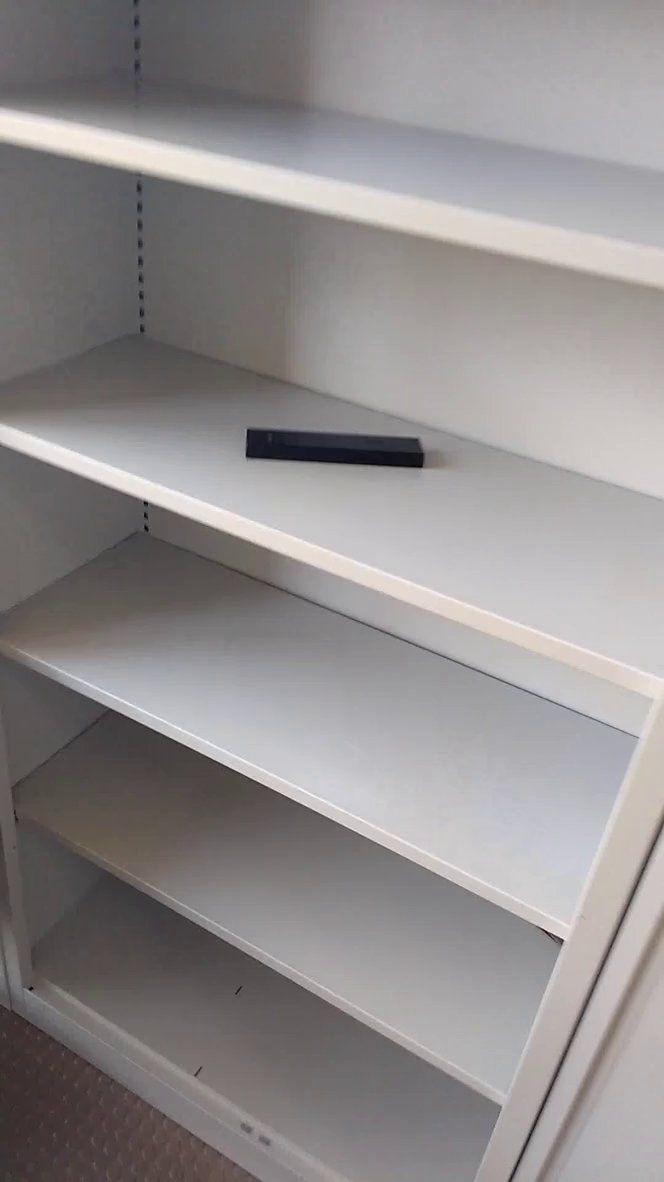remote: (232, 414, 440, 484)
